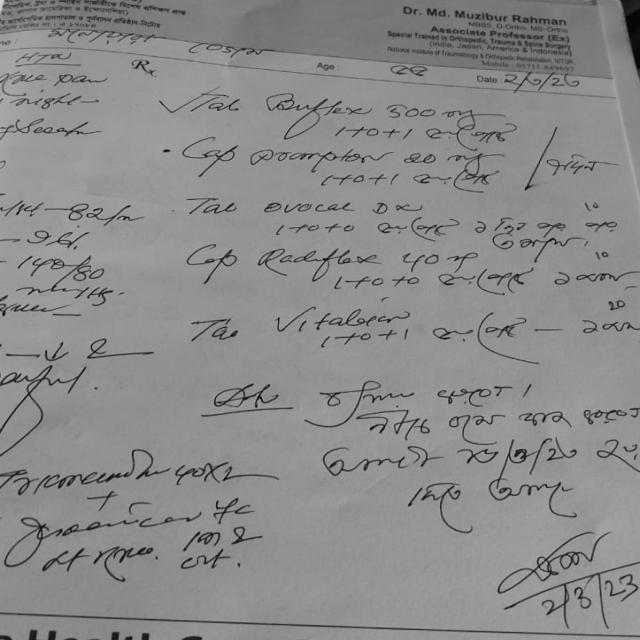medicine: (260, 193, 424, 220), (248, 142, 388, 170), (270, 304, 410, 331), (256, 245, 385, 272), (262, 90, 374, 120)
